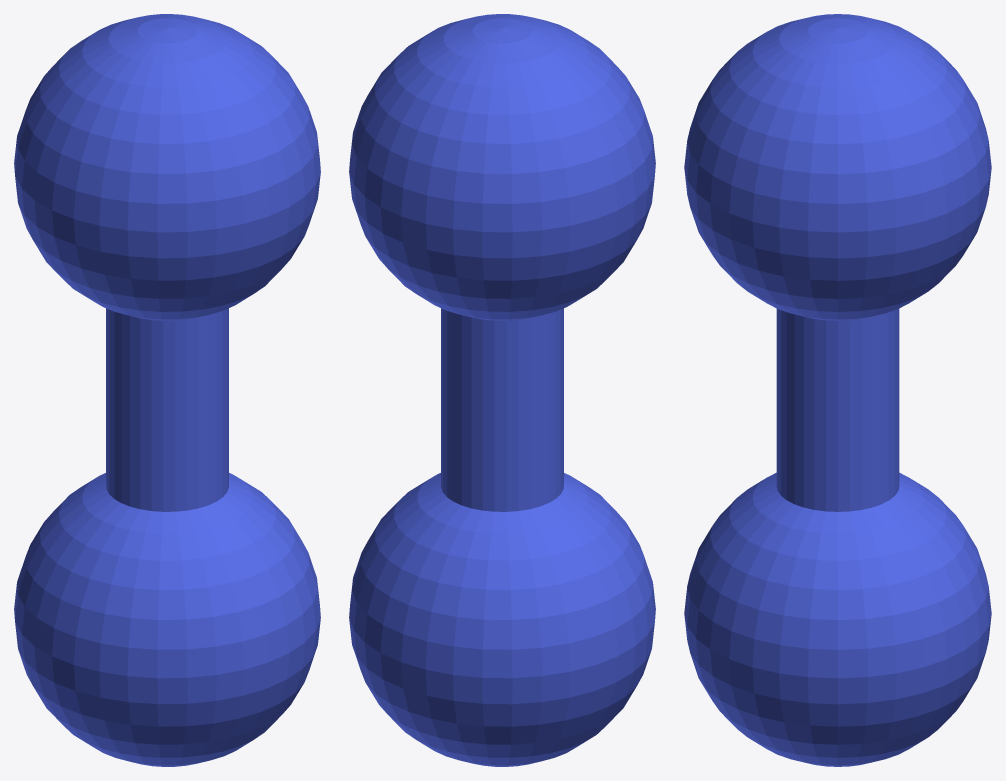
The model's file is lol.fbx.
The picture shows the model from 3 angles, left to right: view 1: azimuth 30°, elevation 25°; view 2: azimuth 150°, elevation 25°; view 3: azimuth 270°, elevation 25°; orthographic projection.
Visible parts, largest first — view 1: Sphere; view 2: Sphere; view 3: Sphere.
Part boxes in pixels (x1,y1,x2,y2): Sphere: [14, 14, 320, 766]; Sphere: [349, 14, 655, 766]; Sphere: [684, 14, 991, 766].
Size of the model in its own units: 100 by 260 by 100.
